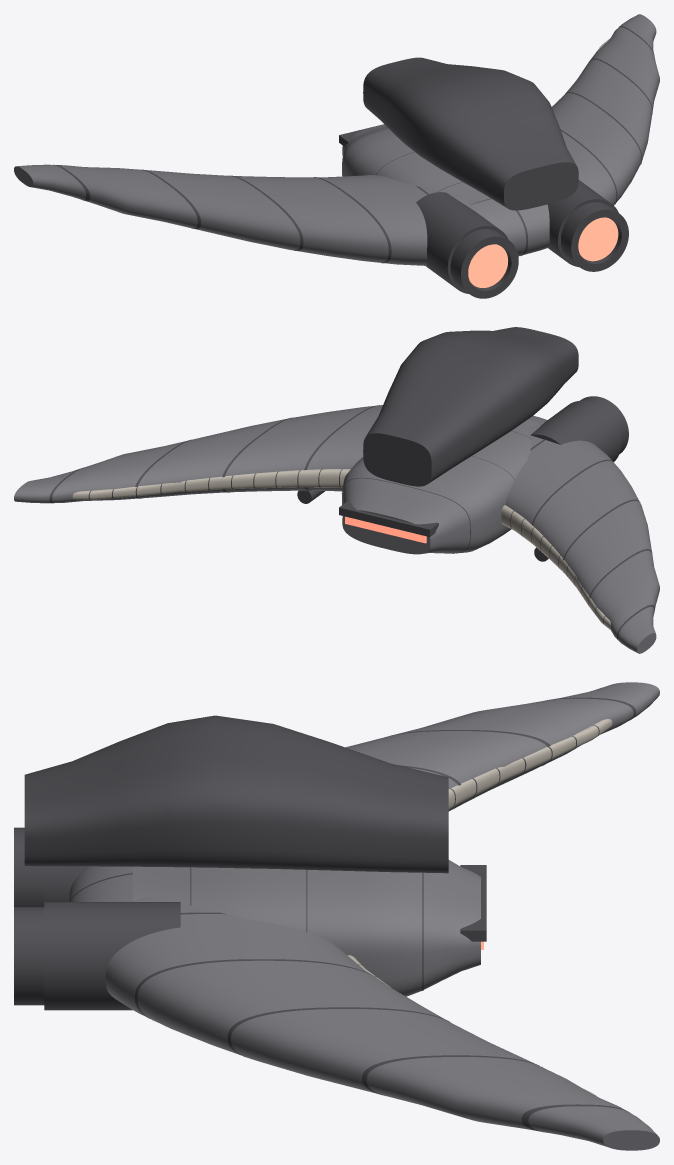
Rendered from shrike.glb.
3 views of the same model, one above another, from view 1: azimuth 30°, elevation 25°; view 2: azimuth 150°, elevation 25°; view 3: azimuth 270°, elevation 25° (orthographic). The views are drawn at different scales.
Parts seen in each view (by area): view 1: shrike_hull; view 2: shrike_hull; view 3: shrike_hull.
Part boxes in pixels (bbox=[...]): shrike_hull: bbox=[14, 14, 659, 298]; shrike_hull: bbox=[14, 327, 659, 653]; shrike_hull: bbox=[14, 682, 659, 1150].
Size of the model in its own units: 14 by 3.32 by 8.53.
